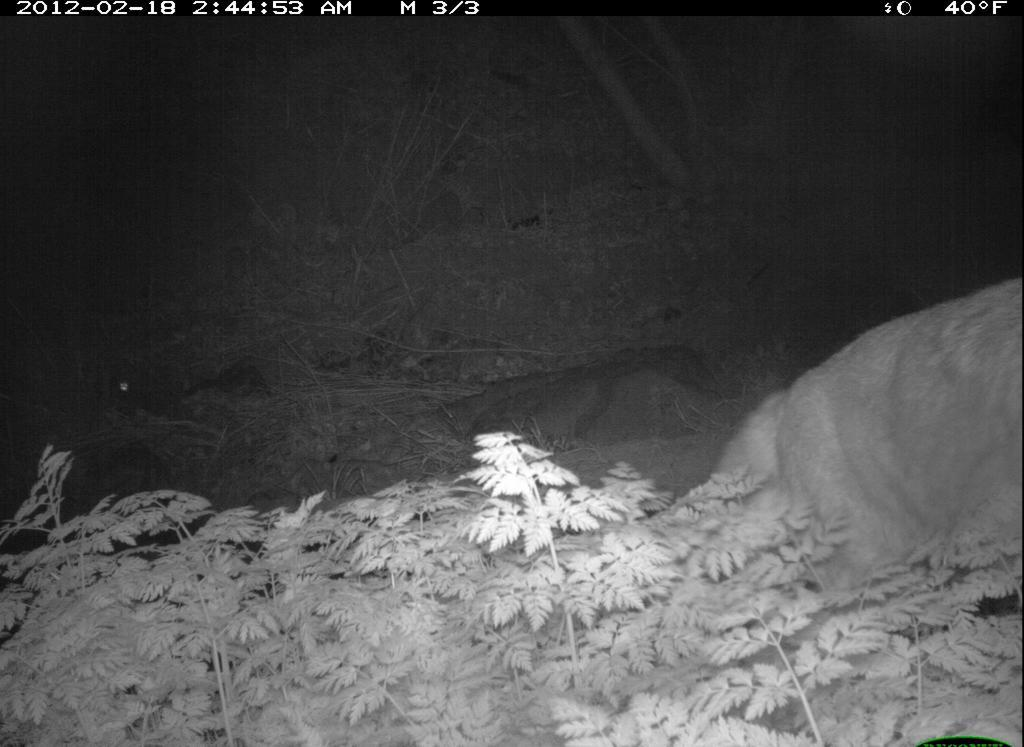coyote: (710, 273, 1022, 611)
